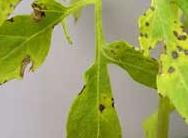Tomato leaf bacterial spot: (0, 0, 83, 112), (130, 0, 188, 138), (65, 50, 123, 138)
